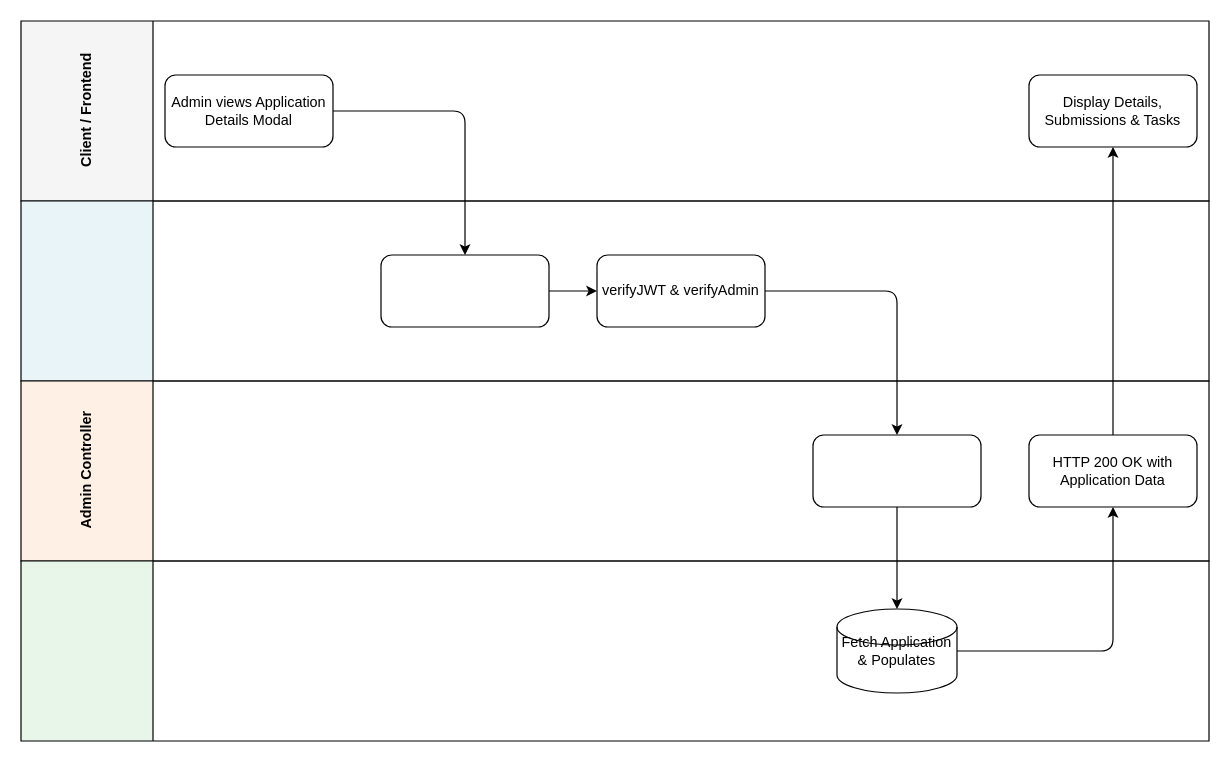
Image size: 1230x762. Some labels were removed from this diagram. Here are the shapes that lost their labels. From the top down, the box of each, then its label:
(380, 254, 549, 327): GET /admin/application/:applicationId
(20, 200, 1209, 381): Router & Middleware
(812, 434, 981, 507): Application.findById(applicationId)
(20, 560, 1209, 741): Database (MongoDB)
